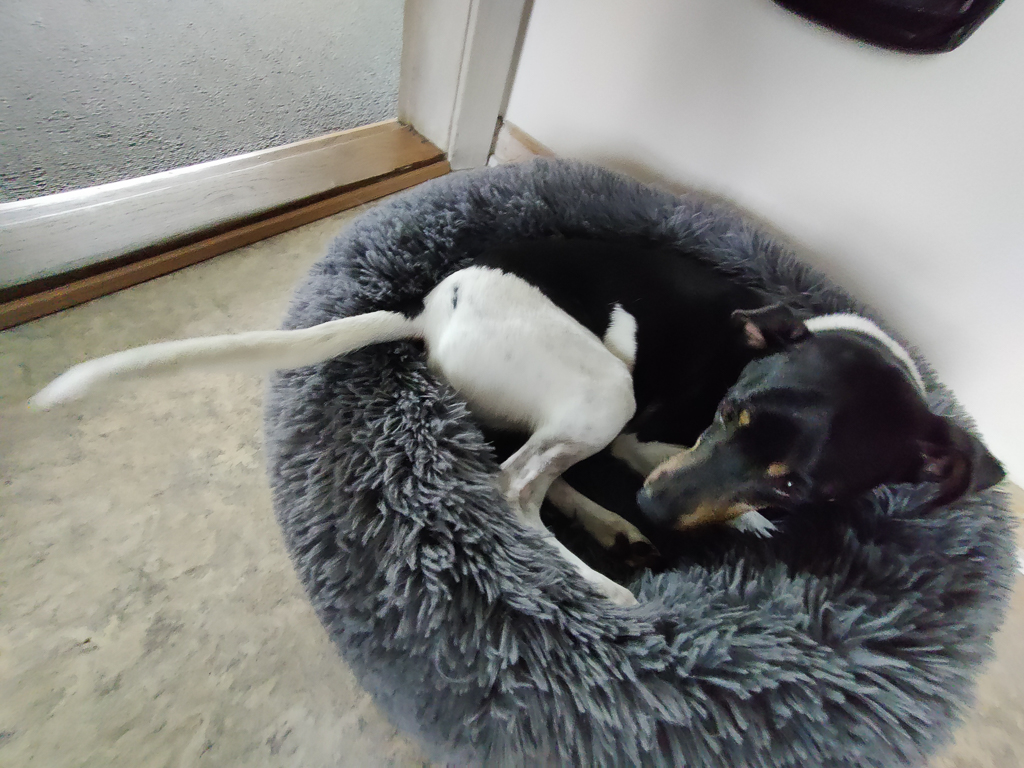Dog: (8, 218, 1023, 617)
